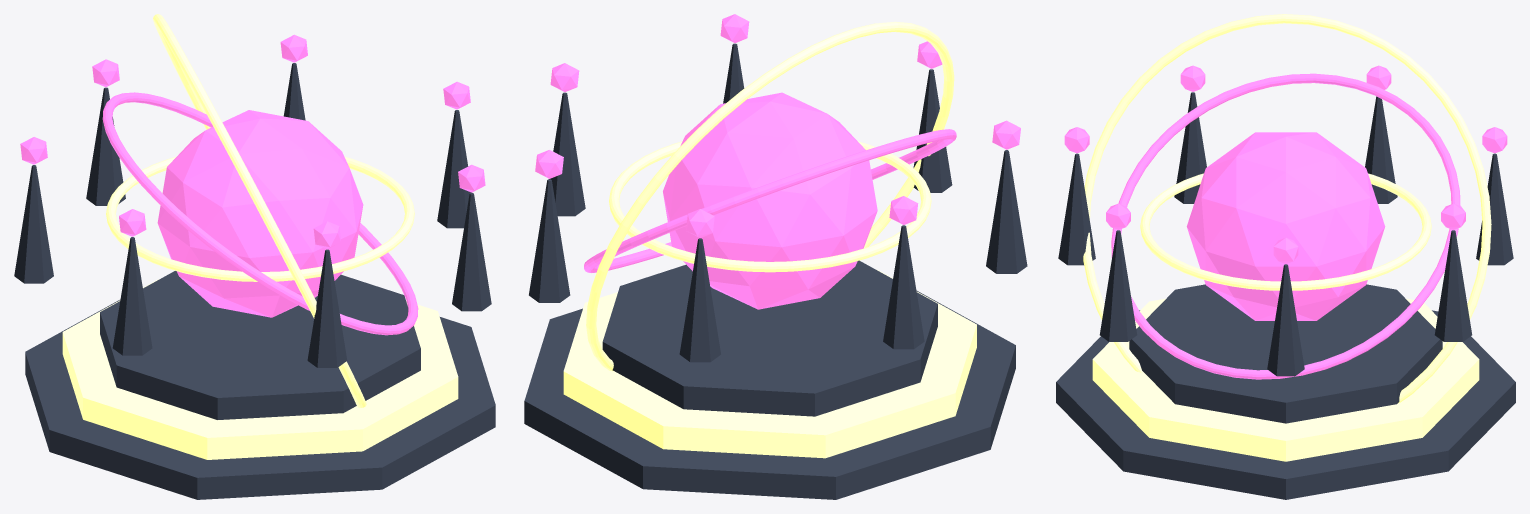
Rendered from gpu-blender-v46.glb.
3 views of the same model, side by side, from view 1: azimuth 30°, elevation 25°; view 2: azimuth 150°, elevation 25°; view 3: azimuth 270°, elevation 25° (orthographic). The views are drawn at different scales.
Parts seen in each view (by area): view 1: Cylinder.002, SovereignCore_agent-capsule-jail, Cylinder, Cylinder.001, Torus.001, Torus, Torus.002, Cone.006, Cone.003, Cone.004, Cone.005, Cone (+9 smaller); view 2: Cylinder.002, SovereignCore_agent-capsule-jail, Cylinder, Cylinder.001, Torus.002, Torus.001, Torus, Cone.003, Cone.002, Cone.004, Cone.001, Cone (+8 smaller); view 3: SovereignCore_agent-capsule-jail, Cylinder.002, Cylinder, Cylinder.001, Torus.002, Torus.001, Torus, Cone, Cone.001, Cone.006, Cone.005, Cone.002 (+8 smaller).
Boxes of the visible parts, x1,y1,x2,y2 form: Cylinder.002: (100,271,420,419); SovereignCore_agent-capsule-jail: (157,110,363,317); Cylinder: (25,299,495,499); Cylinder.001: (62,279,458,459); Torus.001: (102,92,418,335); Torus: (106,156,414,281); Torus.002: (153,14,366,407); Cone.006: (452,193,491,311); Cone.003: (14,165,53,283); Cone.004: (112,237,152,355); Cone.005: (307,249,347,367); Cone: (437,110,471,228); Cylinder.002: (602,260,937,416); SovereignCore_agent-capsule-jail: (663,92,877,309); Cylinder: (524,290,1015,499); Cylinder.001: (563,269,976,458); Torus.002: (586,21,954,371); Torus.001: (584,129,956,272); Torus: (609,141,931,272); Cone.003: (883,225,924,349); Cone.002: (679,238,720,362); Cone.004: (986,150,1027,273); Cone.001: (529,179,570,302); Cone: (549,92,585,216); SovereignCore_agent-capsule-jail: (1186,132,1385,320); Cylinder.002: (1129,284,1442,423); Cylinder: (1056,310,1515,499); Cylinder.001: (1092,298,1479,461); Torus.002: (1083,14,1491,403); Torus.001: (1111,73,1460,379); Torus: (1140,173,1431,290); Cone: (1267,264,1304,376); Cone.001: (1434,230,1472,341); Cone.006: (1099,230,1137,341); Cone.005: (1058,153,1095,265); Cone.002: (1476,153,1513,265).
Size of the model in its own units: 4.41 by 3.72 by 4.4.
